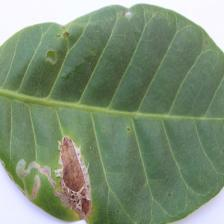leaf miner: (0, 2, 224, 224), (15, 134, 93, 224)
